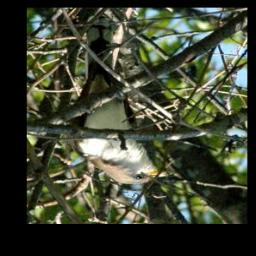Cuckoo: (66, 18, 176, 185)
